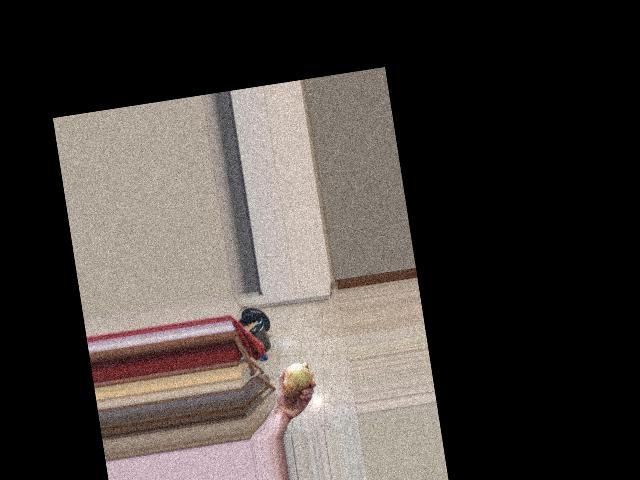onion: (278, 360, 313, 396)
